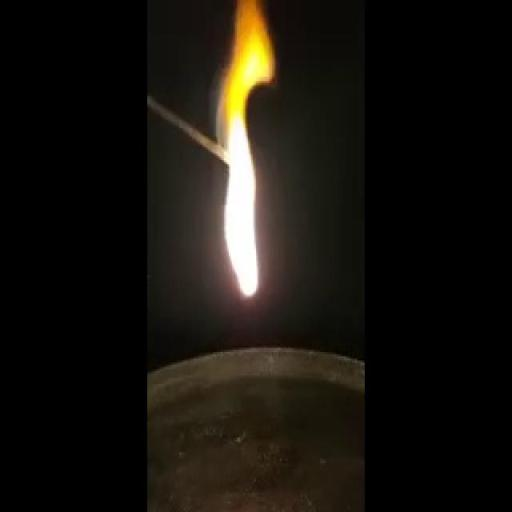smoke: (216, 50, 278, 319)
